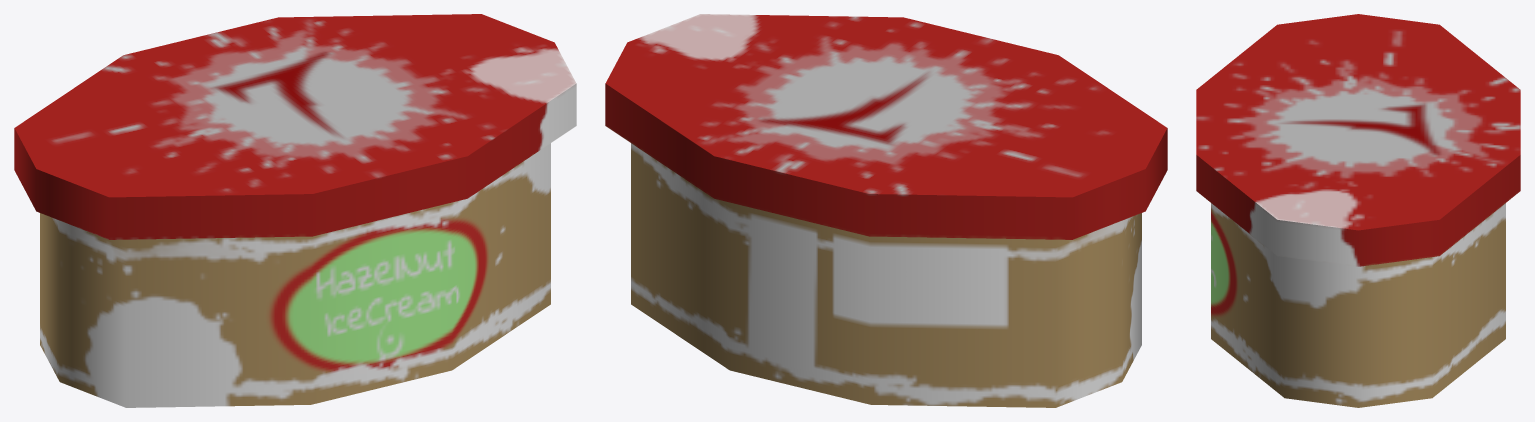
Rendered from Icecream_03.fbx.
3 views of the same model, side by side, from view 1: azimuth 30°, elevation 25°; view 2: azimuth 150°, elevation 25°; view 3: azimuth 270°, elevation 25° (orthographic). The views are drawn at different scales.
Parts seen in each view (by area): view 1: Icecream_03; view 2: Icecream_03; view 3: Icecream_03.
Boxes of the visible parts, x1=… form: Icecream_03: x1=14, y1=14, x2=576, y2=407; Icecream_03: x1=605, y1=14, x2=1167, y2=407; Icecream_03: x1=1196, y1=14, x2=1520, y2=407.
Bounding box in the file's own units: 31.79 × 12.82 × 20.13.
